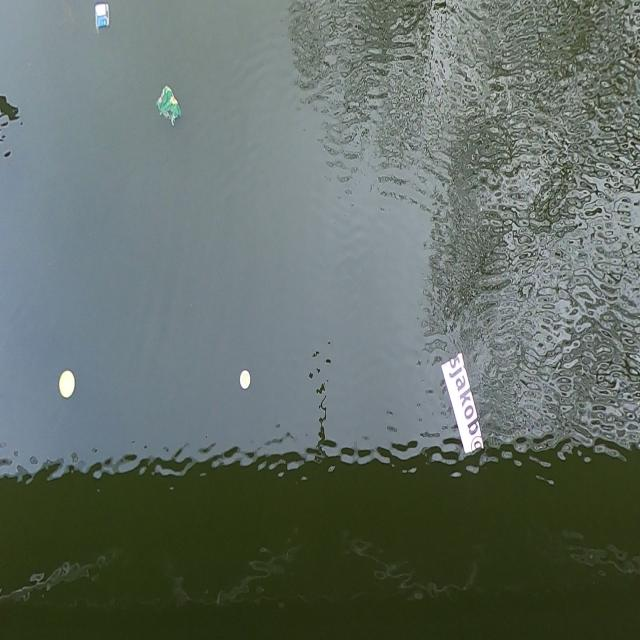Autre plastique: (438, 351, 484, 458), (93, 4, 112, 36), (58, 371, 76, 398), (239, 370, 252, 392)
Sac plastique: (154, 84, 181, 130)
